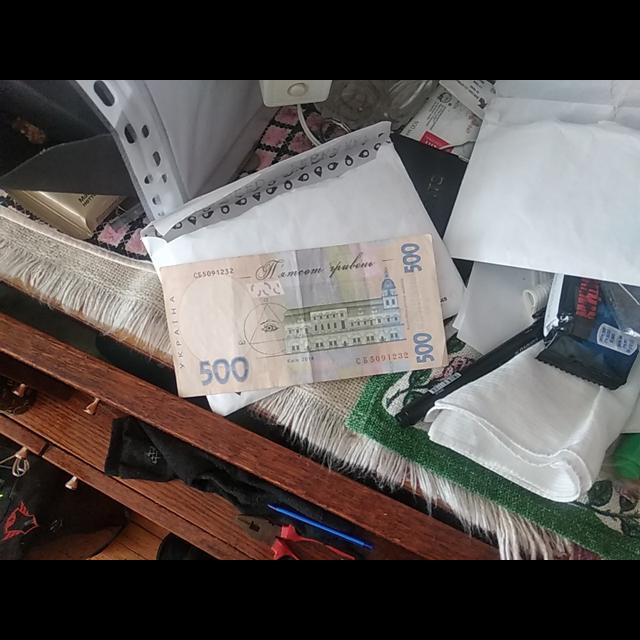500uah: (160, 234, 450, 397)
